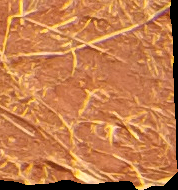soil: (1, 1, 178, 188)
